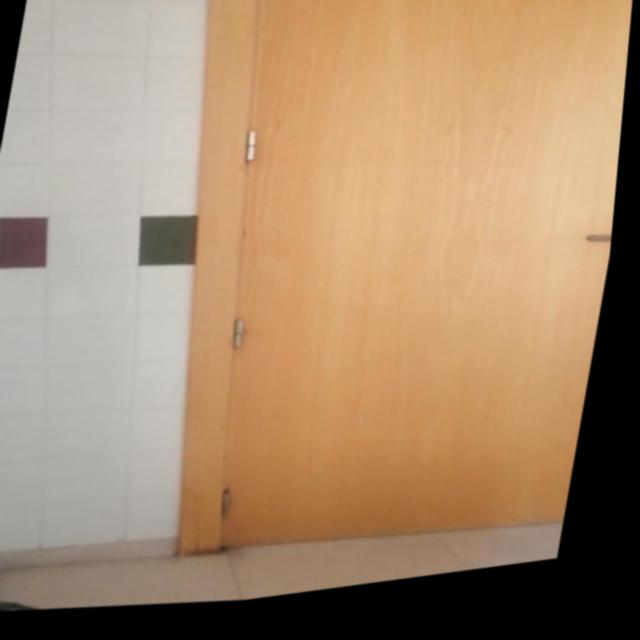door_handle: (584, 240, 619, 258)
